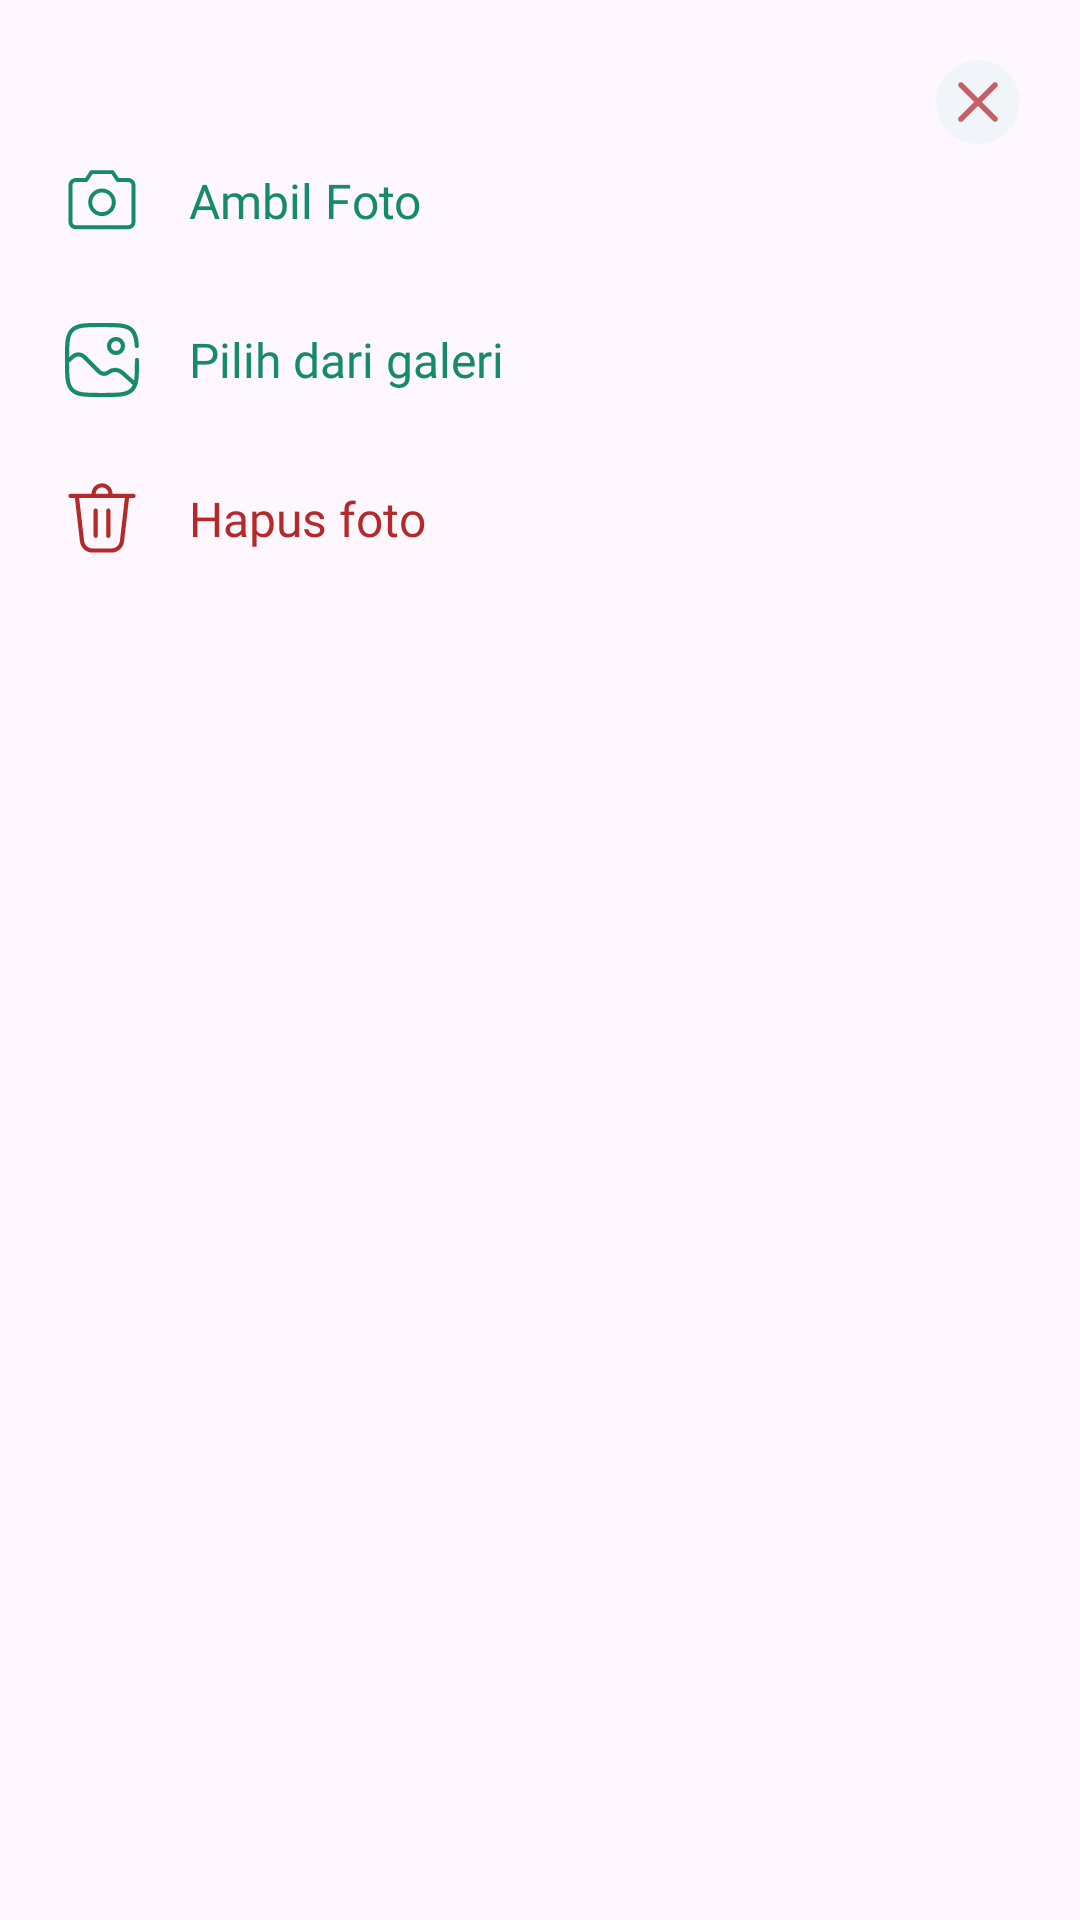

Where icons sit on this 1080 x 1920 app screen, as bbox(x1, y1, x2, y2):
Ikon Galeri: bbox(65, 323, 139, 397)
Ikon Hapus: bbox(68, 483, 136, 553)
Ikon Tutup: bbox(936, 60, 1020, 144)
Ikon Ubah Kamera: bbox(68, 170, 136, 230)
